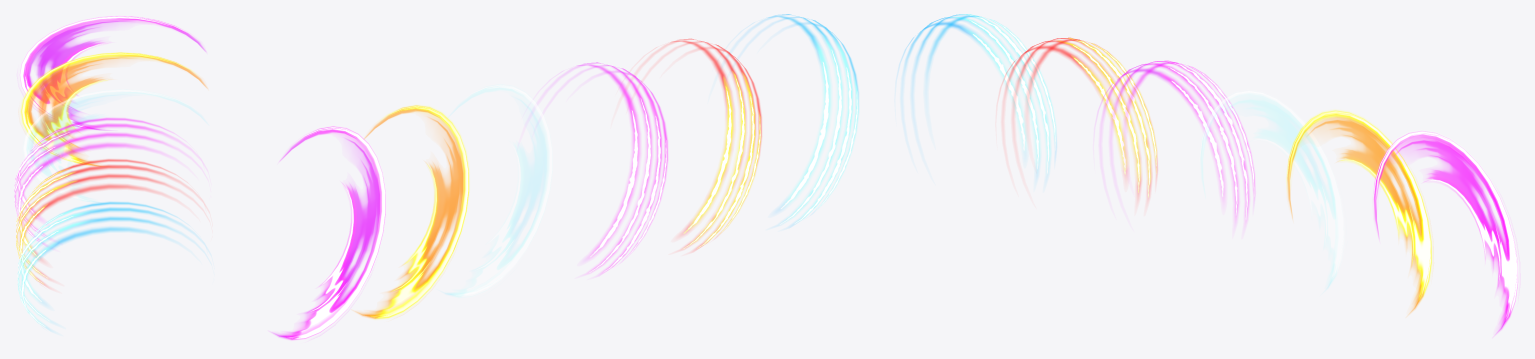
File: attack_slashes.glb
The picture shows the model from 3 angles, left to right: view 1: azimuth 30°, elevation 25°; view 2: azimuth 150°, elevation 25°; view 3: azimuth 270°, elevation 25°; orthographic projection. The views are drawn at different scales.
Parts seen in each view (by area): view 1: Circle.004, Circle.005, Circle, Circle.003, Circle.002, Circle.001; view 2: Circle.004, Circle.005, Circle, Circle.003, Circle.001, Circle.002; view 3: Circle.005, Circle.004, Circle, Circle.003, Circle.001, Circle.002.
Part boxes in pixels (<box>): Circle.004: <box>20,52,207,166</box>; Circle.005: <box>19,16,205,130</box>; Circle: <box>23,89,199,202</box>; Circle.003: <box>17,202,182,328</box>; Circle.002: <box>16,159,180,286</box>; Circle.001: <box>14,118,179,244</box>; Circle.004: <box>355,105,469,319</box>; Circle.005: <box>272,126,385,340</box>; Circle: <box>446,84,552,296</box>; Circle.003: <box>762,14,858,225</box>; Circle.001: <box>570,62,667,274</box>; Circle.002: <box>664,39,761,250</box>; Circle.005: <box>1373,130,1518,334</box>; Circle.004: <box>1286,110,1431,313</box>; Circle: <box>1200,90,1344,286</box>; Circle.003: <box>902,14,1056,174</box>; Circle.001: <box>1100,60,1254,220</box>; Circle.002: <box>1003,37,1157,198</box>.
Size of the model in its own units: 1087 by 467 by 1420.
6 materials, 6 textured.
